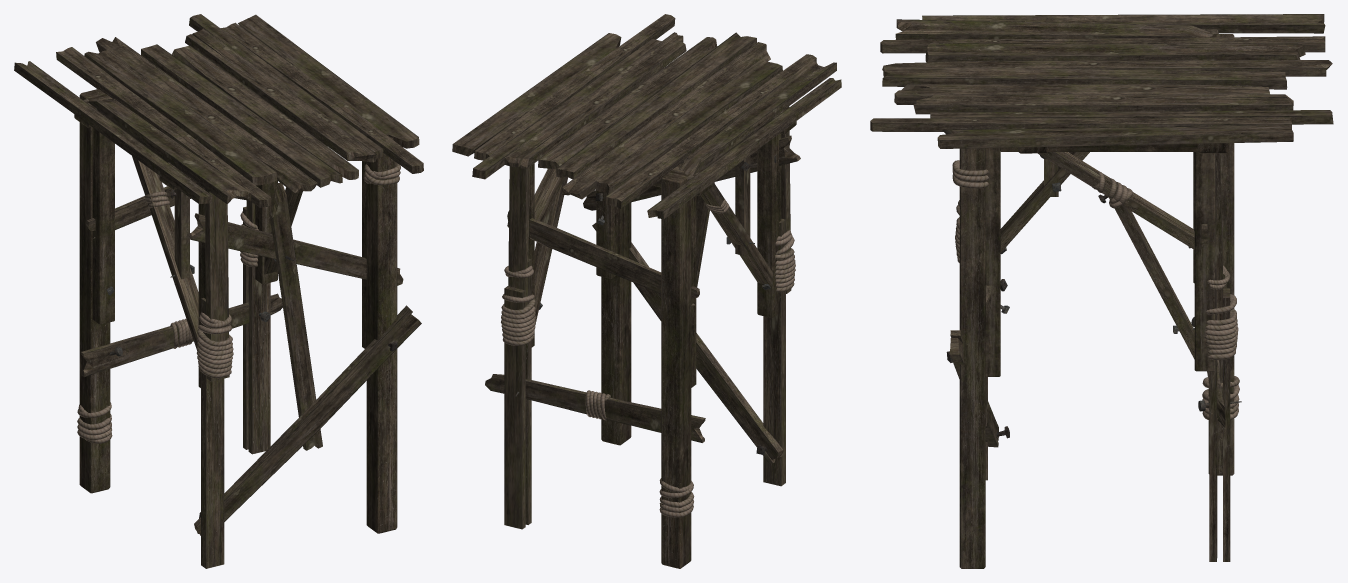
The model's file is dock_main02.fbx.
3 renders of one model, left to right at view 1: azimuth 30°, elevation 25°; view 2: azimuth 150°, elevation 25°; view 3: azimuth 270°, elevation 25°, orthographic. The views are drawn at different scales.
Visible parts, largest first — view 1: dock_main02; view 2: dock_main02; view 3: dock_main02.
Boxes of the visible parts, left/top/right/bottom form: dock_main02: left=14, top=14, right=423, bottom=568; dock_main02: left=452, top=14, right=841, bottom=568; dock_main02: left=870, top=14, right=1333, bottom=568.
Size of the model in its own units: 453 by 731 by 692.
